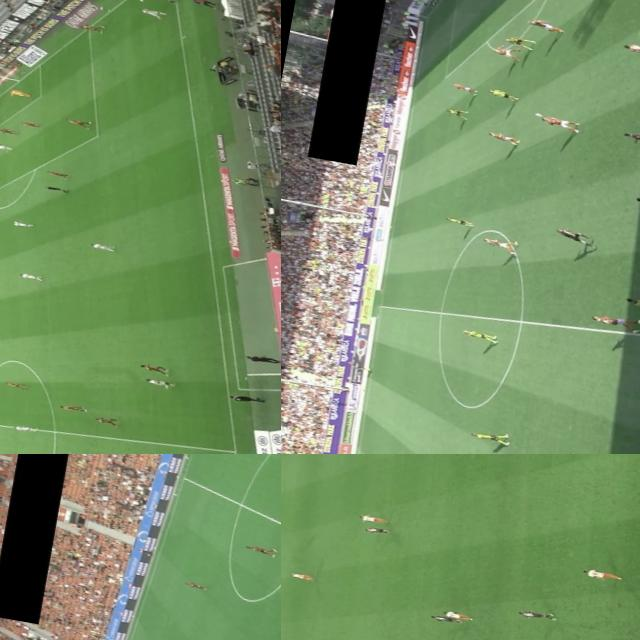ball: (530, 109, 545, 118), (133, 0, 146, 2)
player: (589, 309, 640, 332), (580, 566, 626, 584), (478, 234, 520, 253), (467, 426, 508, 444), (538, 114, 580, 129), (357, 510, 392, 528), (458, 327, 499, 342), (518, 607, 558, 622), (484, 130, 520, 146), (523, 18, 564, 32), (502, 35, 540, 49), (612, 40, 640, 58), (442, 608, 478, 622), (140, 375, 174, 389), (85, 238, 116, 252), (491, 44, 522, 58), (132, 6, 167, 18), (619, 128, 640, 148), (241, 543, 276, 555), (430, 610, 460, 624), (61, 115, 93, 128), (488, 88, 522, 100), (74, 19, 104, 32), (138, 361, 168, 374), (89, 414, 121, 426), (14, 269, 43, 282), (441, 214, 472, 226), (450, 80, 481, 92), (364, 524, 395, 536), (290, 568, 316, 582), (56, 401, 88, 412), (0, 376, 27, 389), (622, 294, 640, 313), (42, 168, 73, 179), (4, 218, 38, 228), (4, 88, 33, 99), (7, 422, 38, 432), (443, 106, 470, 116), (182, 580, 208, 590), (16, 118, 41, 128), (0, 125, 19, 135), (57, 448, 87, 454), (0, 139, 12, 151)
